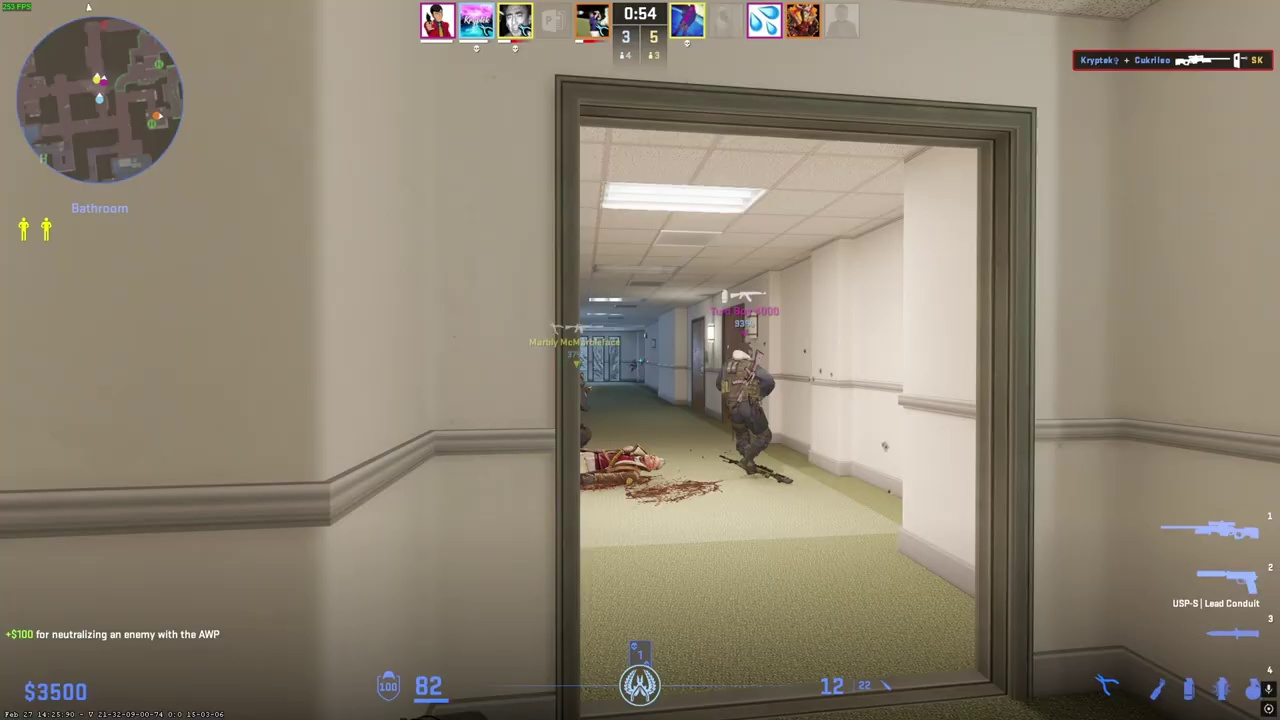CT: (720, 340, 782, 481)
